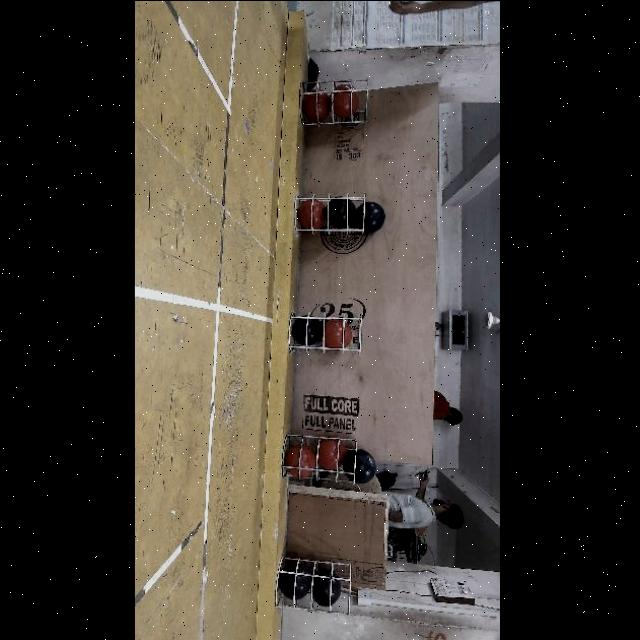P: (274, 562, 312, 600), (344, 448, 377, 482), (310, 570, 342, 604), (356, 200, 387, 232), (328, 195, 358, 227), (291, 316, 321, 346)
R: (285, 445, 317, 477), (300, 89, 330, 121), (330, 85, 360, 117), (298, 198, 328, 228), (322, 318, 352, 348), (317, 439, 345, 469)
S: (281, 552, 359, 612), (280, 434, 362, 488), (280, 308, 370, 354), (298, 74, 370, 130), (296, 190, 374, 237)
